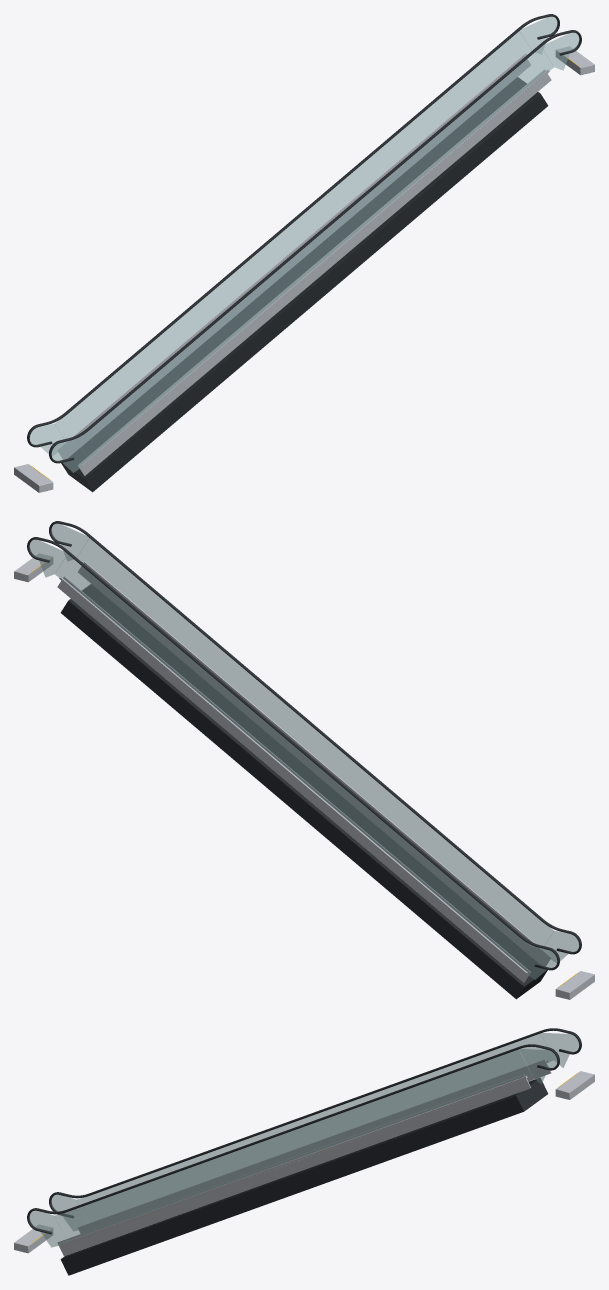
The model's file is SM_MallEscalatorShell_850.fbx.
The picture shows the model from 3 angles, top to bottom: view 1: azimuth 30°, elevation 25°; view 2: azimuth 150°, elevation 25°; view 3: azimuth 330°, elevation 25°; orthographic projection.
Parts seen in each view (by area): view 1: SM_MallEscalatorShell_850; view 2: SM_MallEscalatorShell_850; view 3: SM_MallEscalatorShell_850.
Part boxes in pixels (x1,y1,x2,y2): SM_MallEscalatorShell_850: (14,14,594,492); SM_MallEscalatorShell_850: (14,521,594,999); SM_MallEscalatorShell_850: (14,1028,594,1275).
Size of the model in its own units: 1732 by 136 by 1024.
